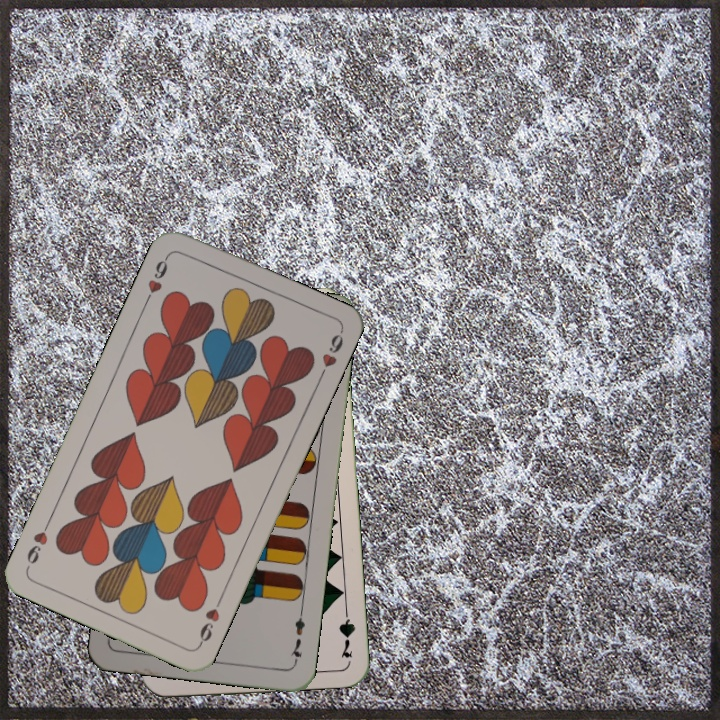E7: (287, 607, 308, 666)
G7: (335, 602, 358, 660)
H9: (140, 250, 173, 306), (195, 592, 225, 649)
